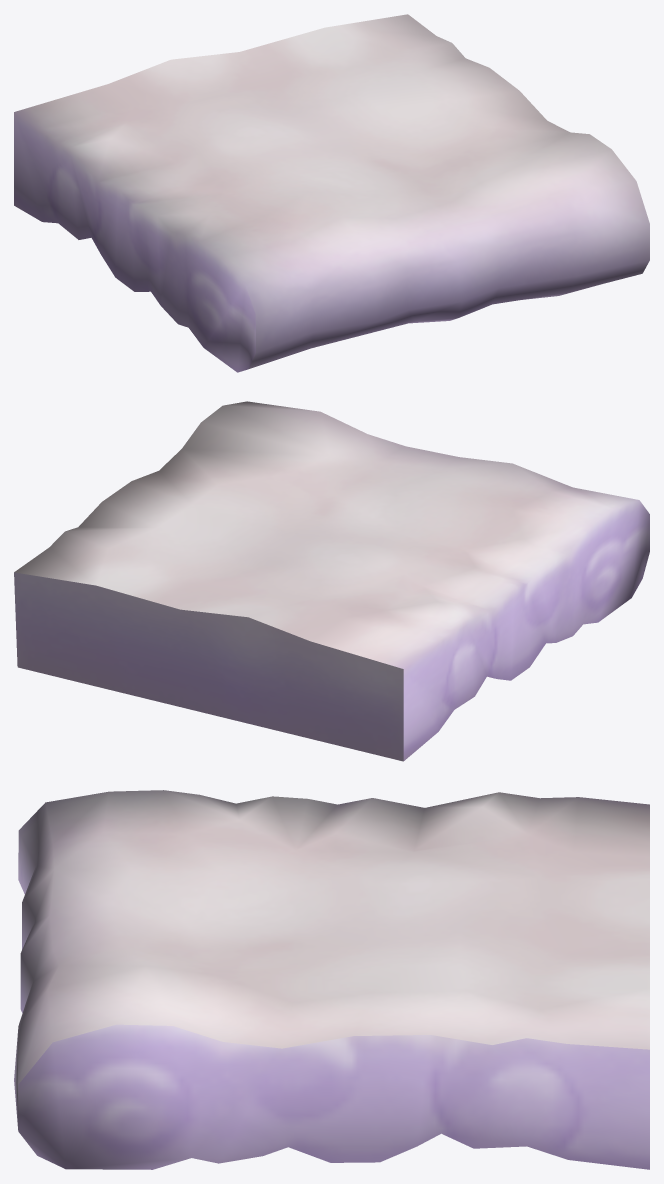
The model's file is scenes_common_cloudroad01b.FBX.
3 views of the same model, one above another, from view 1: azimuth 30°, elevation 25°; view 2: azimuth 150°, elevation 25°; view 3: azimuth 270°, elevation 25° (orthographic). The views are drawn at different scales.
Visible parts, largest first — view 1: scenes_common_cloudroad01b; view 2: scenes_common_cloudroad01b; view 3: scenes_common_cloudroad01b.
Part boxes in pixels (x1,y1,x2,y2): scenes_common_cloudroad01b: (14, 14, 649, 372); scenes_common_cloudroad01b: (14, 401, 649, 761); scenes_common_cloudroad01b: (14, 790, 649, 1169).
Size of the model in its own units: 404 by 110 by 435.
